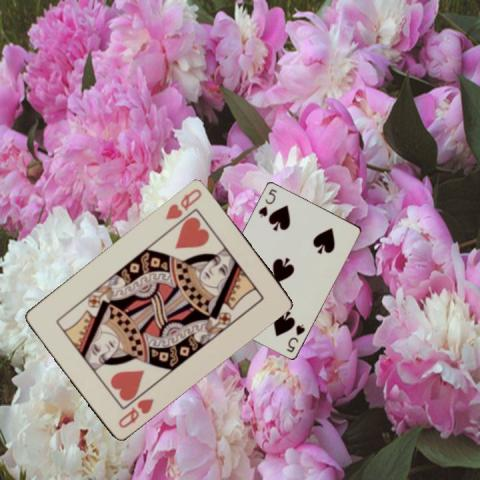5s: (255, 185, 278, 219), (283, 321, 306, 353)
Qh: (162, 186, 203, 222), (116, 395, 156, 429)
